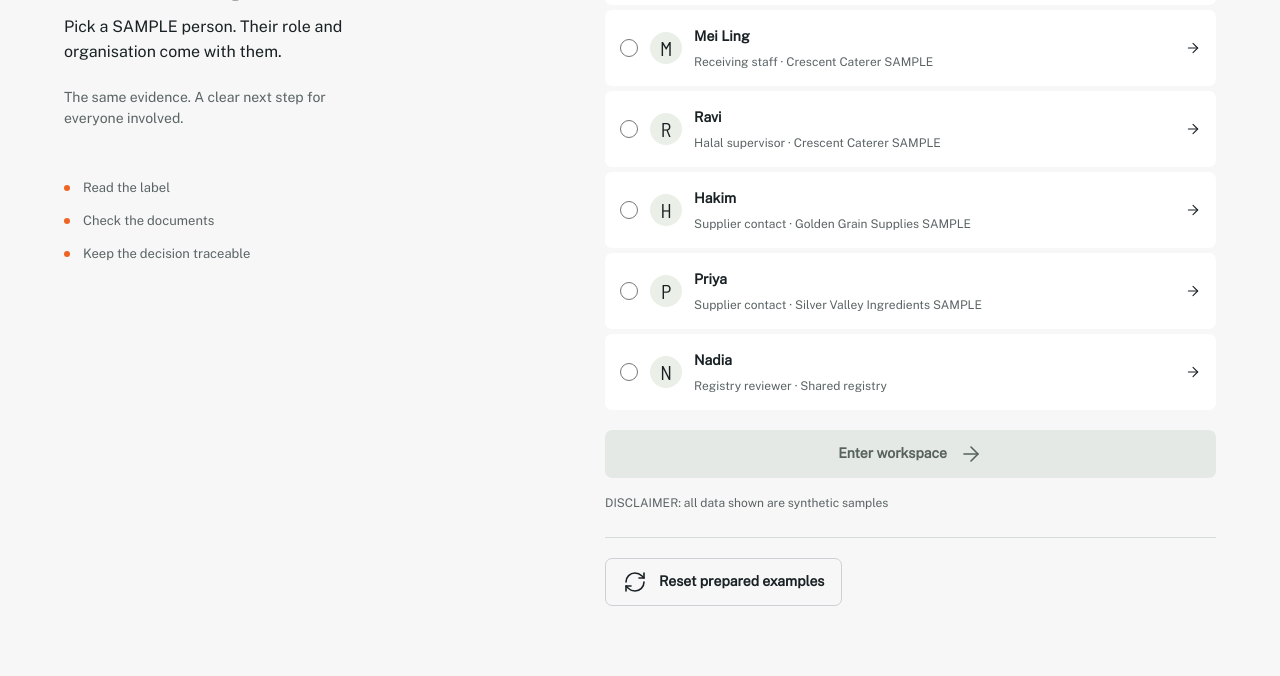
it: resets prepared decisions only through the explicit preview control
(page scrolled)
Click the button "Reset prepared examples": (724, 582) [605,558,842,606]
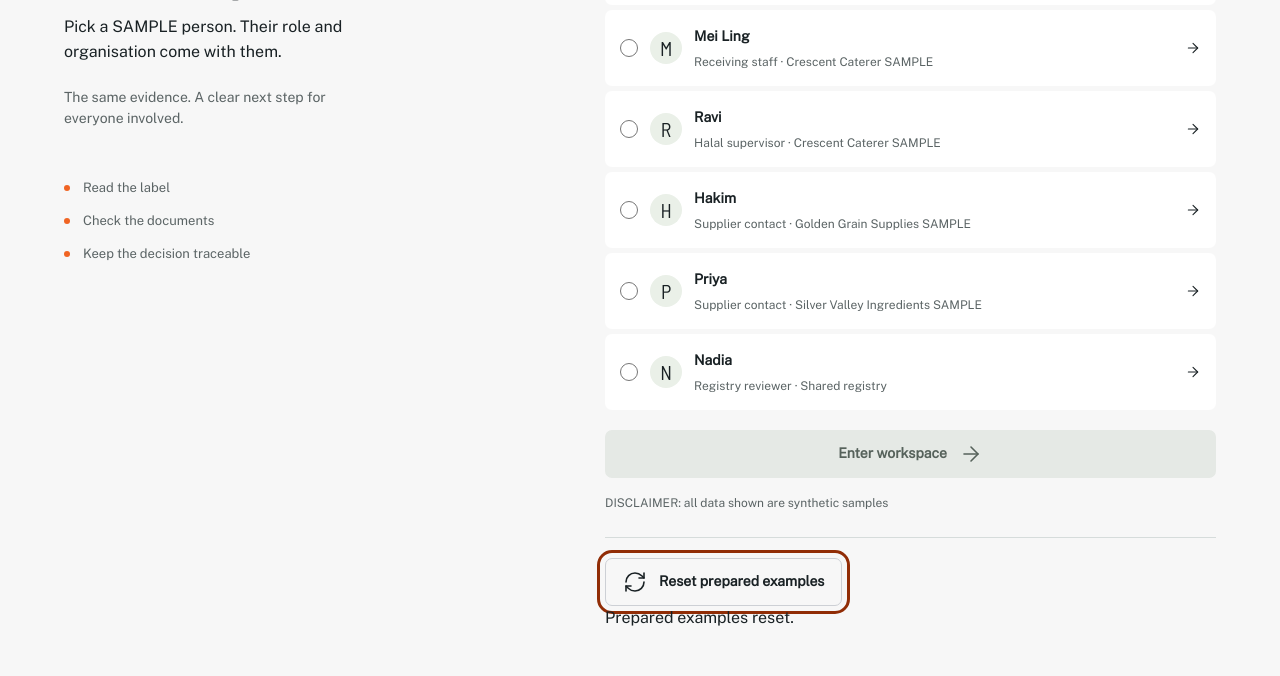
Result: the text "Prepared examples reset." is shown at [605,608,794,627]
